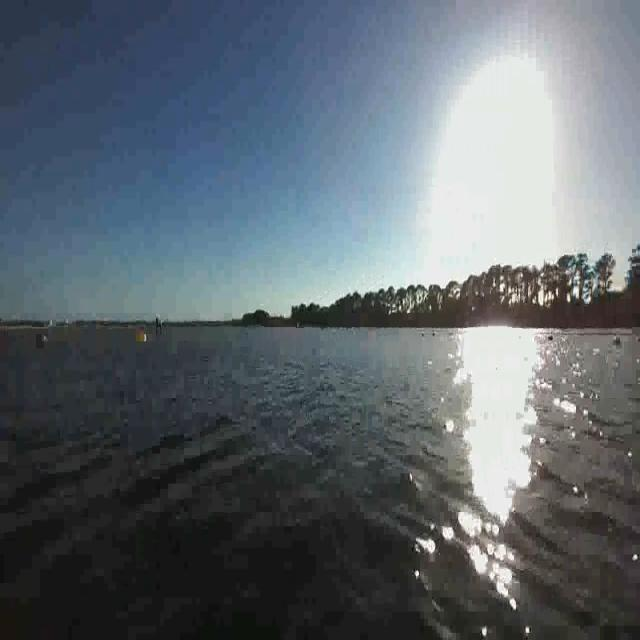blue-buoy: (35, 332, 48, 348)
yellow-buoy: (136, 329, 148, 347)
